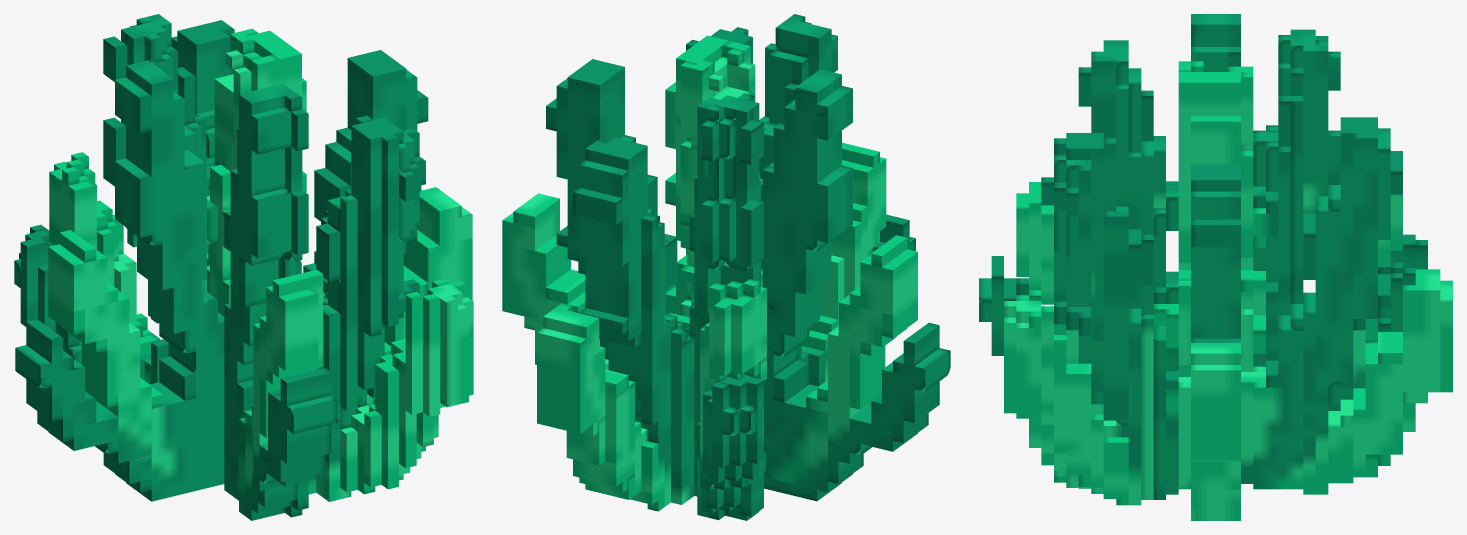
Rendered from alga.dae.
The picture shows the model from 3 angles, left to right: view 1: azimuth 30°, elevation 25°; view 2: azimuth 150°, elevation 25°; view 3: azimuth 270°, elevation 25°; orthographic projection. The views are drawn at different scales.
Parts seen in each view (by area): view 1: Node-local; view 2: Node-local; view 3: Node-local.
Part boxes in pixels (x1,y1,x2,y2): Node-local: [14, 14, 473, 520]; Node-local: [502, 14, 950, 520]; Node-local: [979, 14, 1452, 520].
Bounding box in the file's own units: 39 × 36 × 38.
